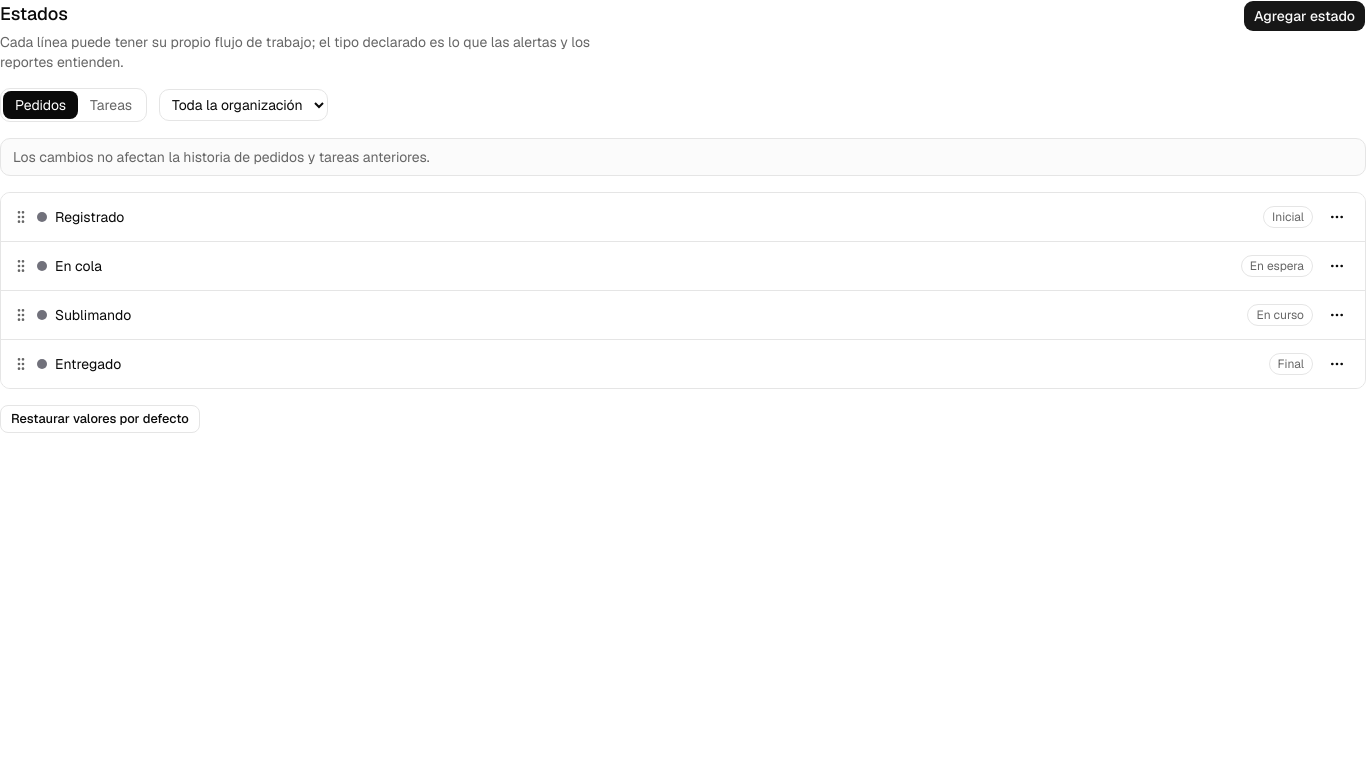
Test case: StatusesSection · editar y agregar en un diálogo › cambiar el tipo del único final deja el diálogo abierto con el aviso
Click the button named "Acciones de Entregado" at (1337, 364), box 1321,348 -> 1353,380
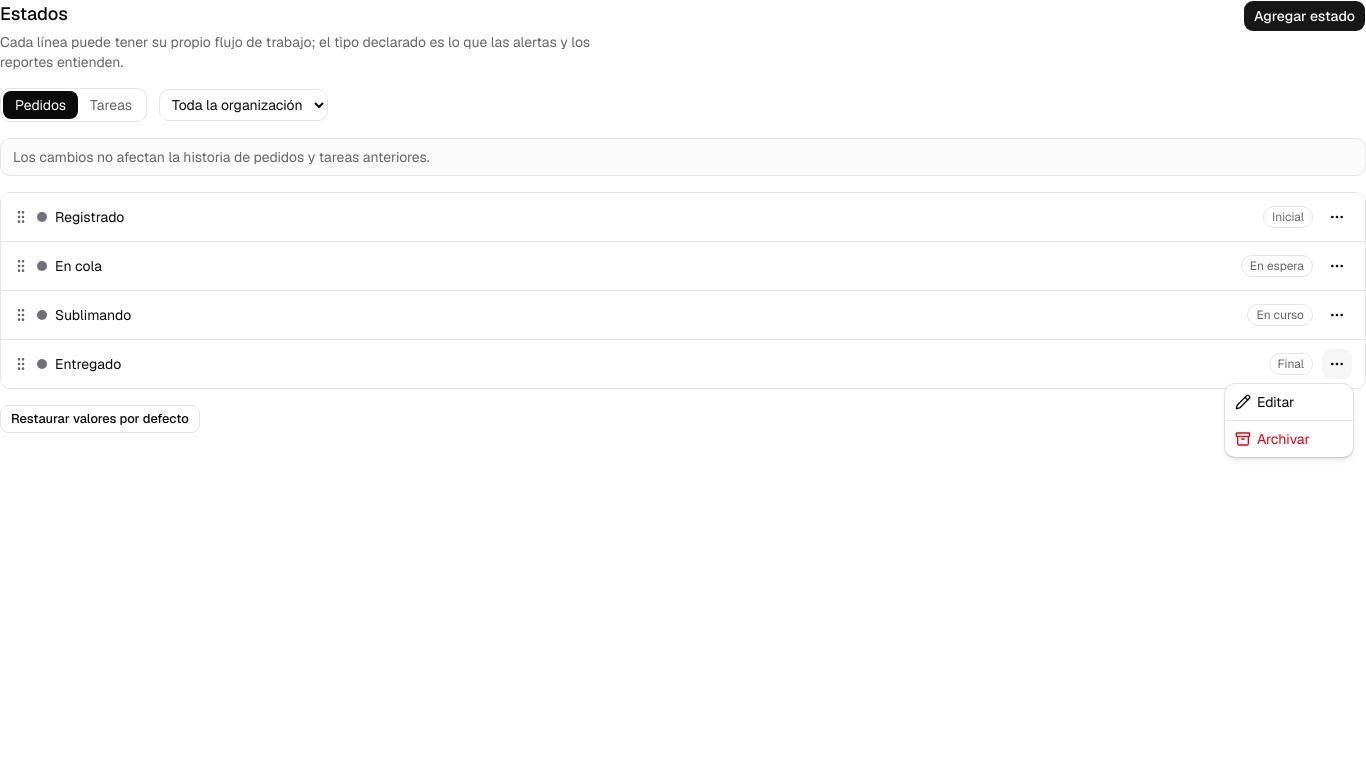
Click the menu item "Editar" at (1265, 402), box 1235,393 -> 1294,411
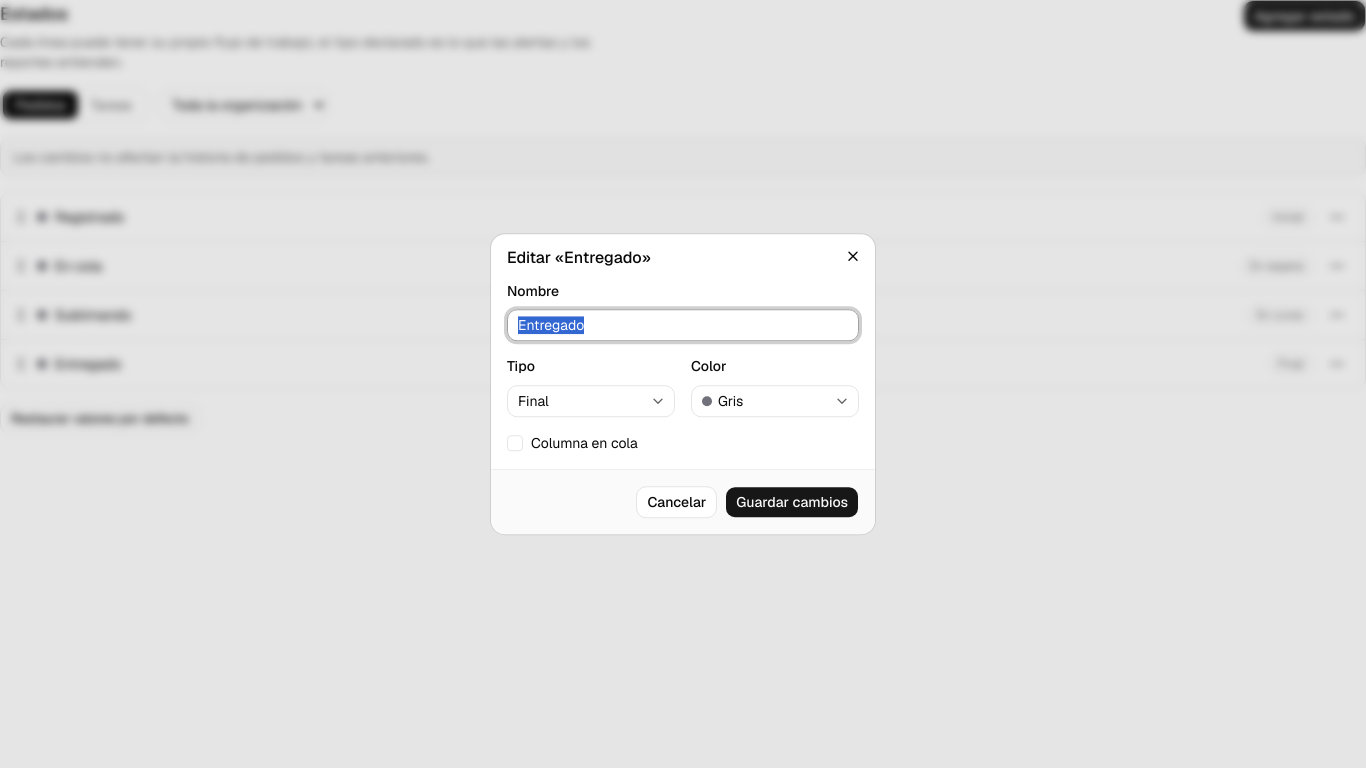
Click the dropdown named "Tipo" at (591, 401), box 507,385 -> 675,417
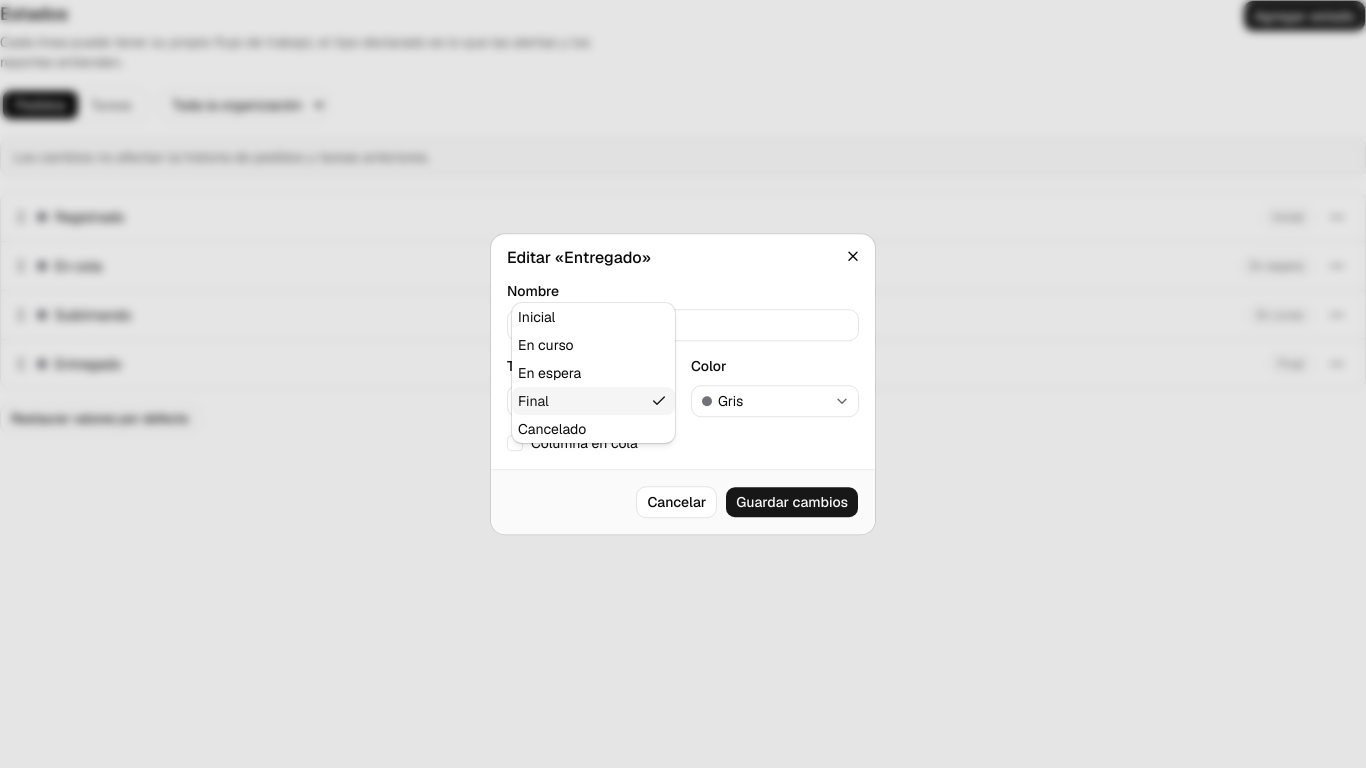
Click the option "En espera" at (550, 373), box 518,364 -> 581,382
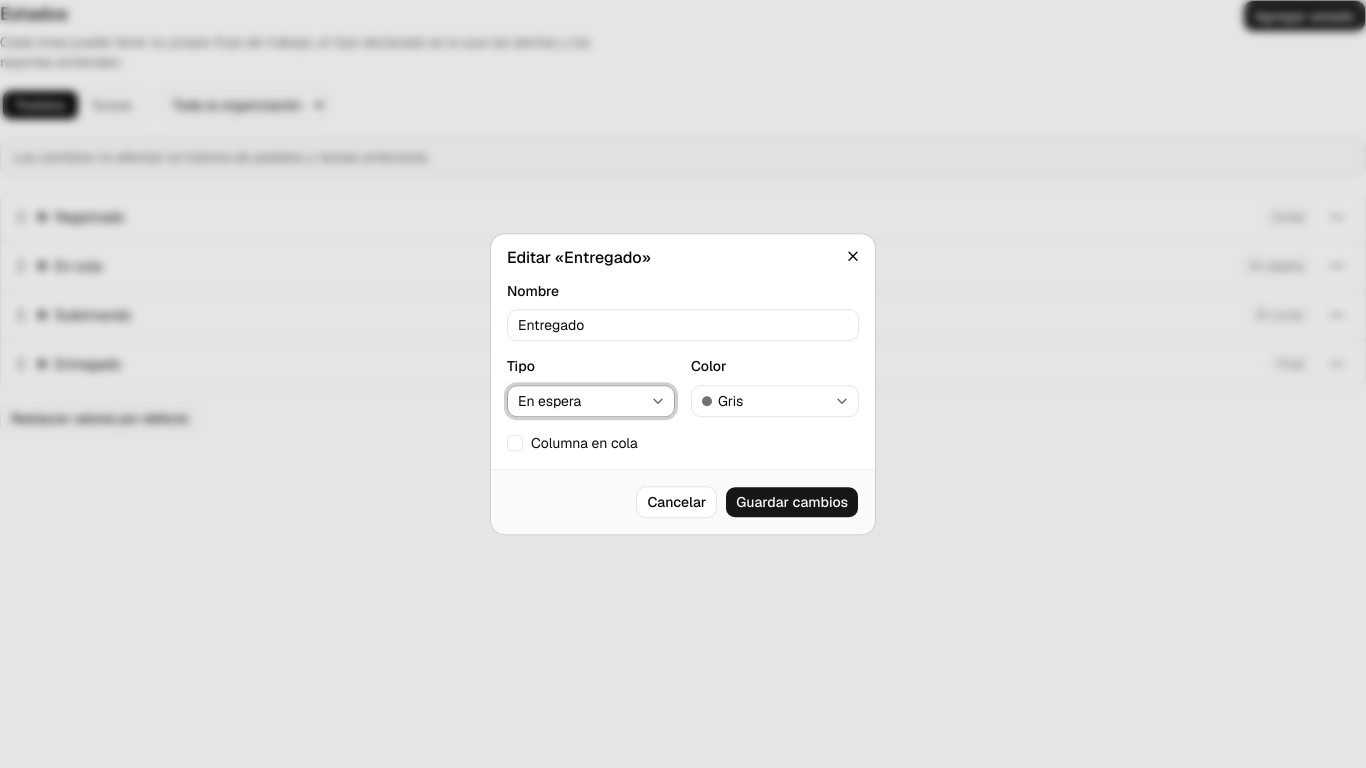
Click the button "Guardar cambios" at (792, 502), box 725,486 -> 859,518
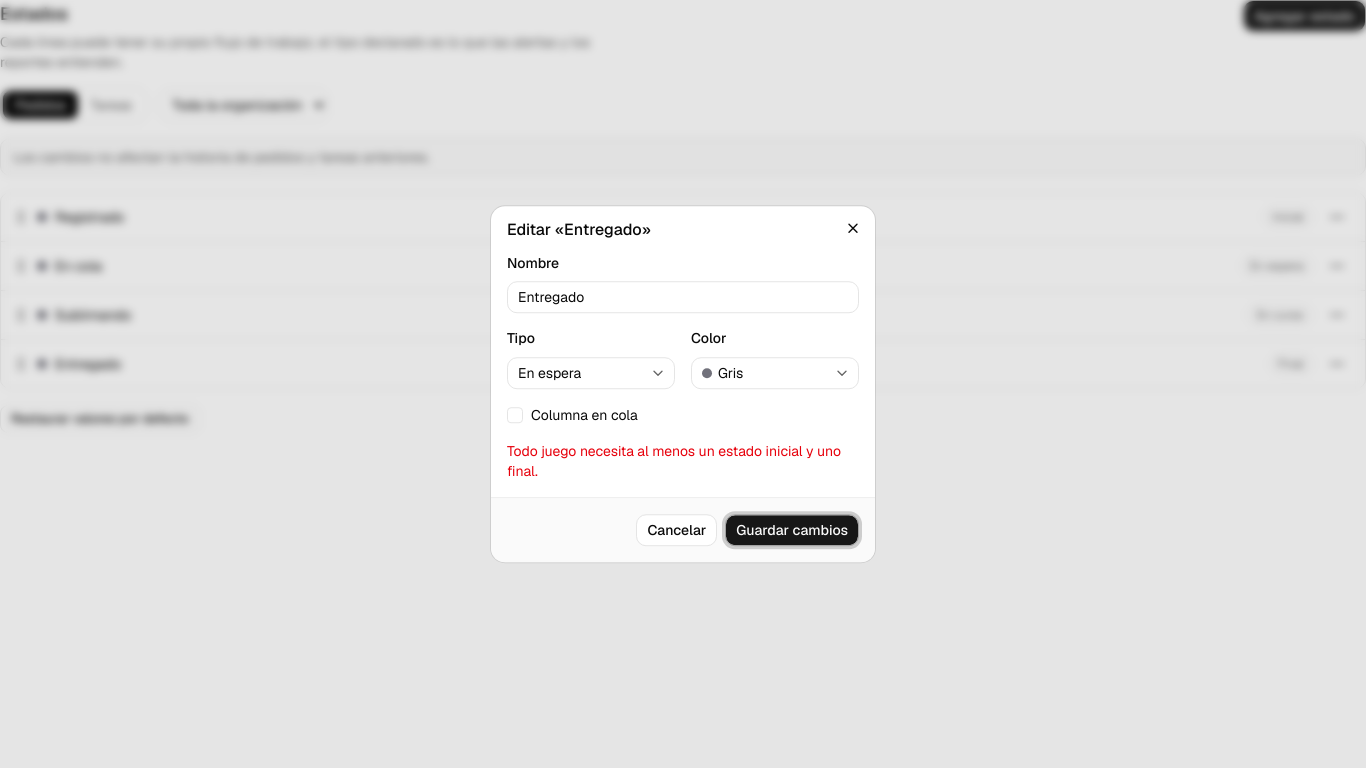
Expected: the dialog "Editar «Entregado»" is shown, 491,206 -> 875,562
Expected: the message shows "al menos un estado inicial y uno final", 507,442 -> 841,480
